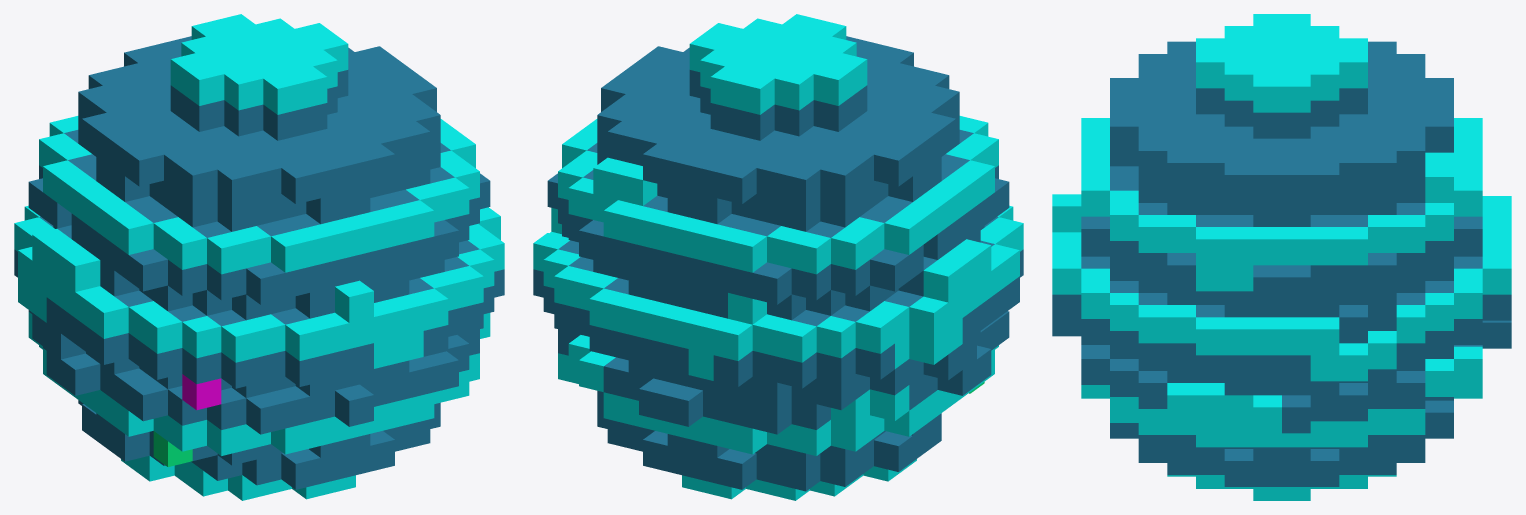
File: planeta-16b.obj
The picture shows the model from 3 angles, left to right: view 1: azimuth 30°, elevation 25°; view 2: azimuth 150°, elevation 25°; view 3: azimuth 270°, elevation 25°; orthographic projection.
Bounding box in the file's own units: 1.6 × 1.5 × 1.6.
1 material, 1 textured.
